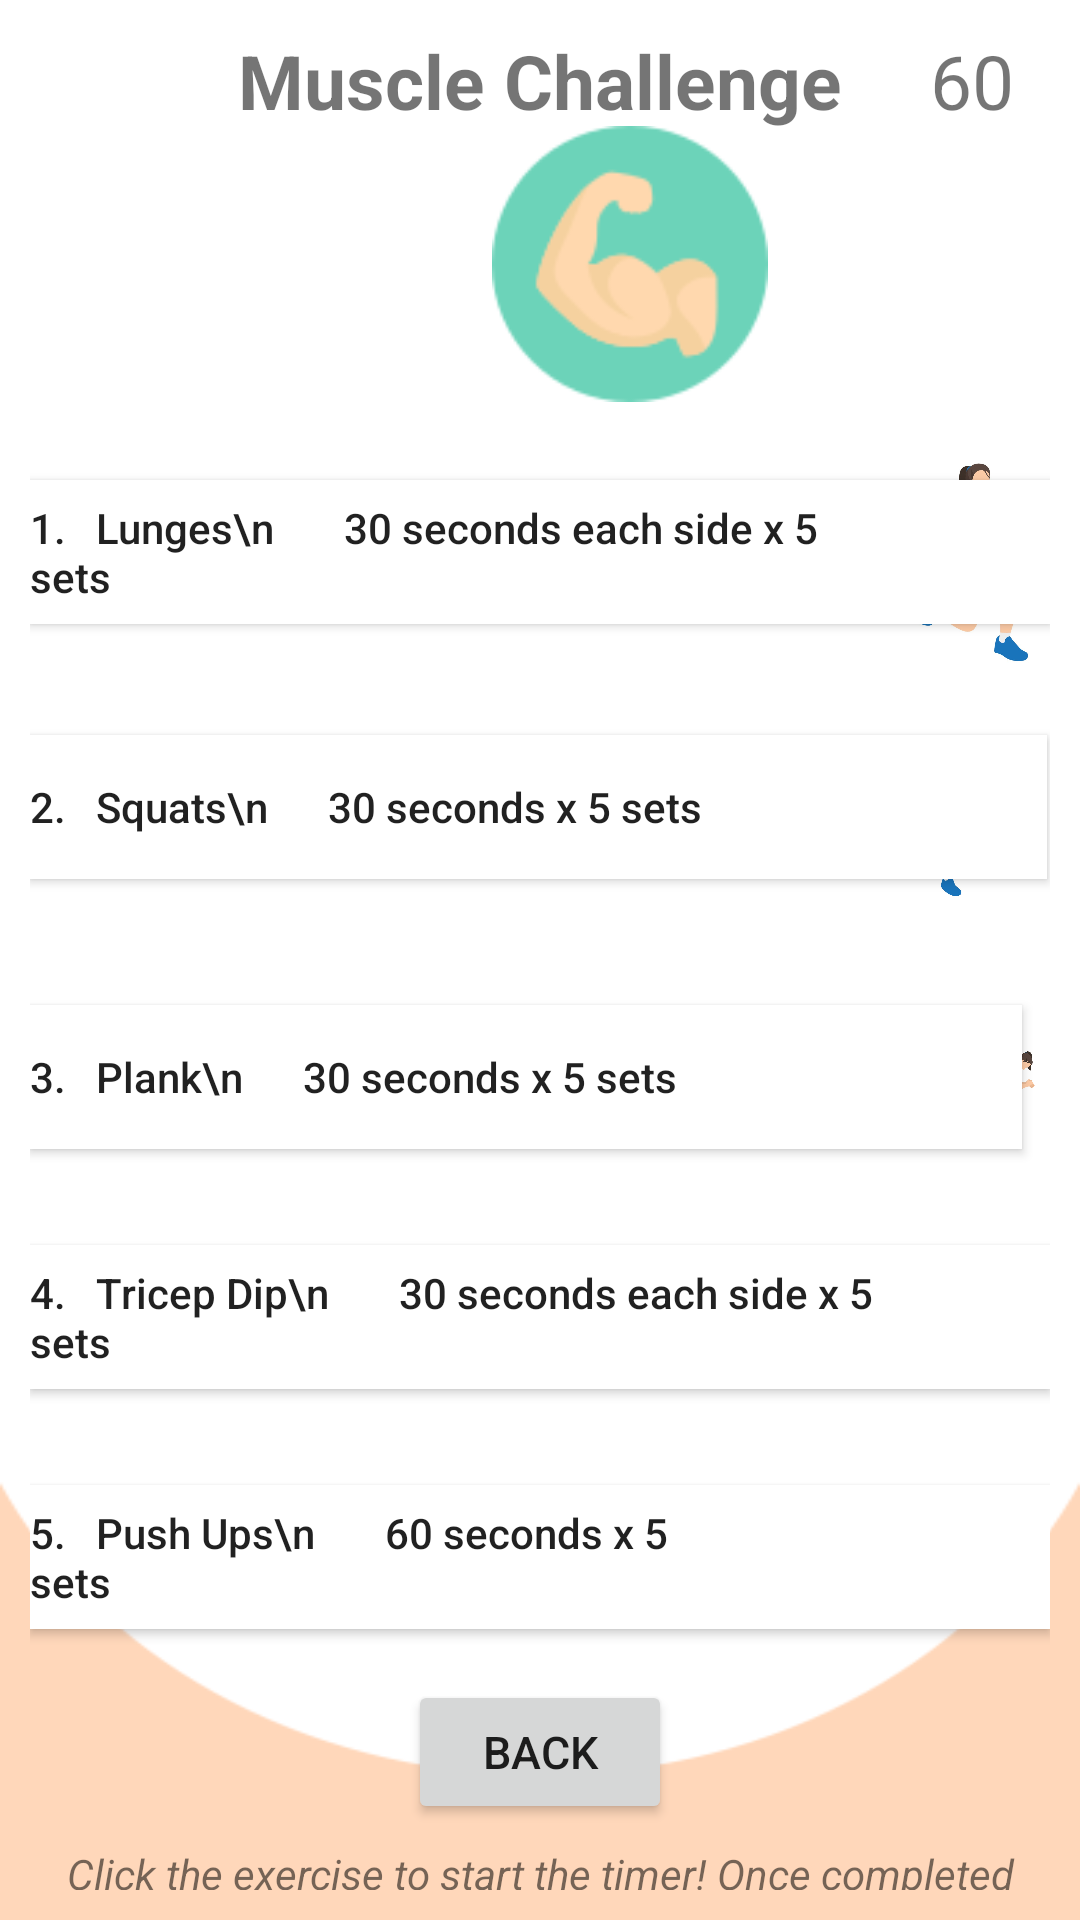

Locate icon controls on the screen. Image size 1080px x 1920px, boxes as (x1, y1, x2, y2).
buildmuscleheader: (492, 126, 768, 402)
